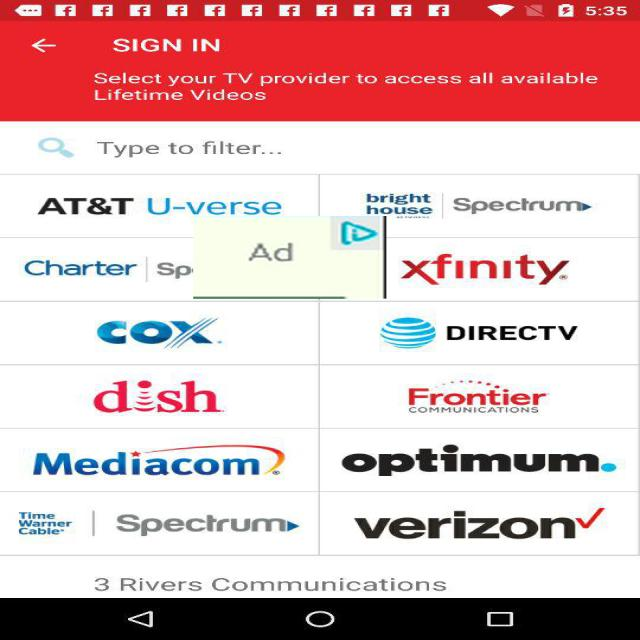sneaking: (194, 216, 386, 299)
